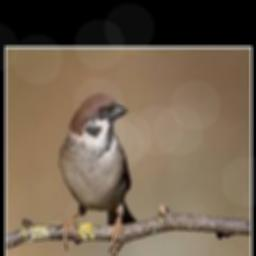Sparrow: (59, 93, 137, 252)
